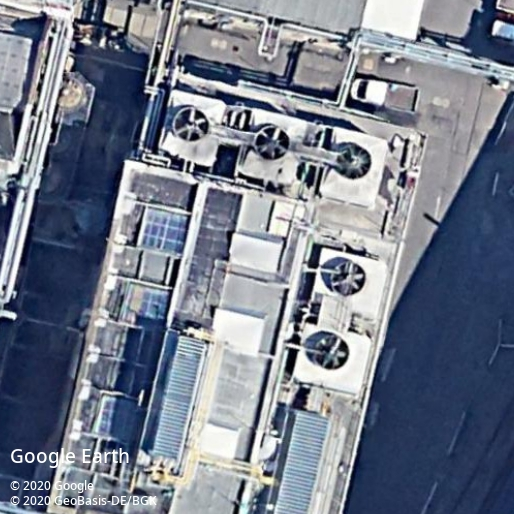Vent: (173, 106, 210, 142), (253, 126, 291, 161), (313, 336, 350, 371), (336, 145, 372, 180), (330, 262, 367, 296)
